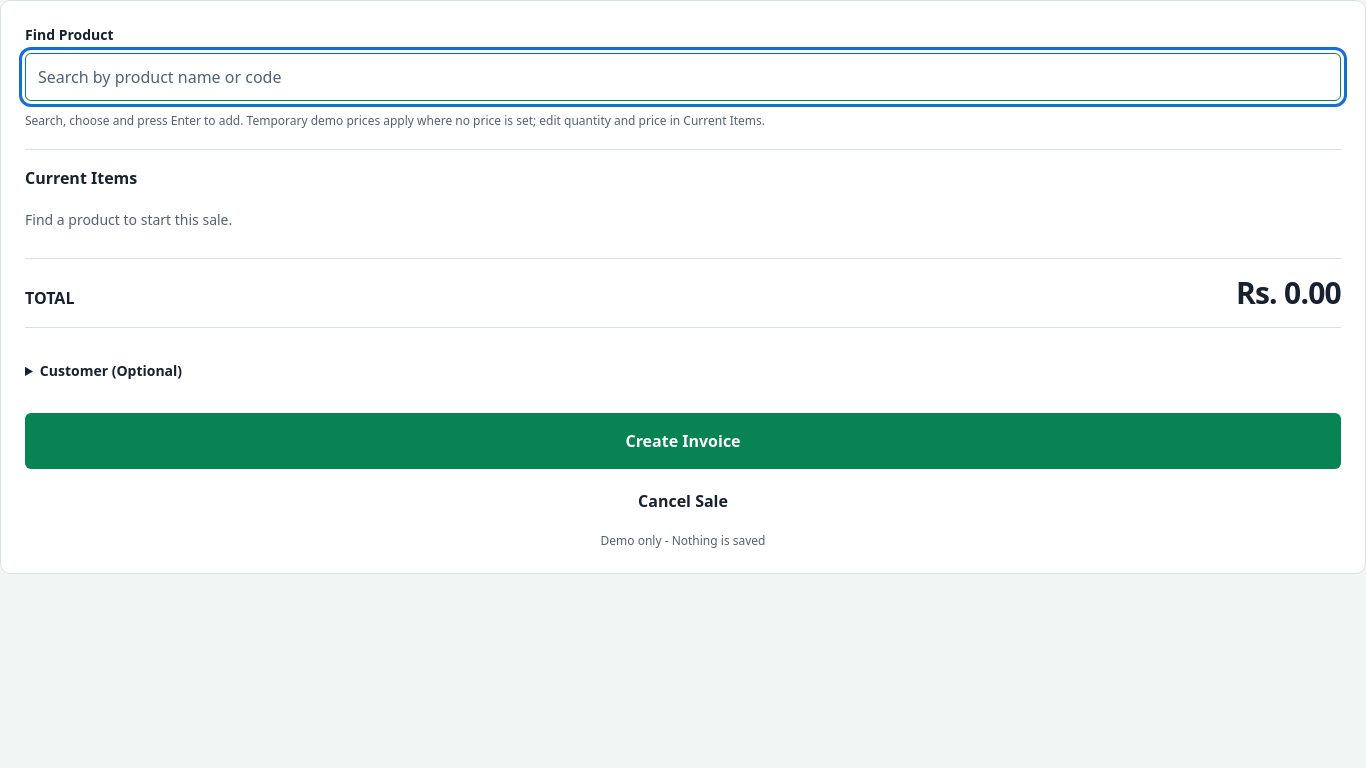
Test: keeps the optional percentage discount with one TOTAL and no invented payment or customer rows
Type "dia" into the dropdown.
click(683, 77); type("dia")  # box [25,53,1341,101]
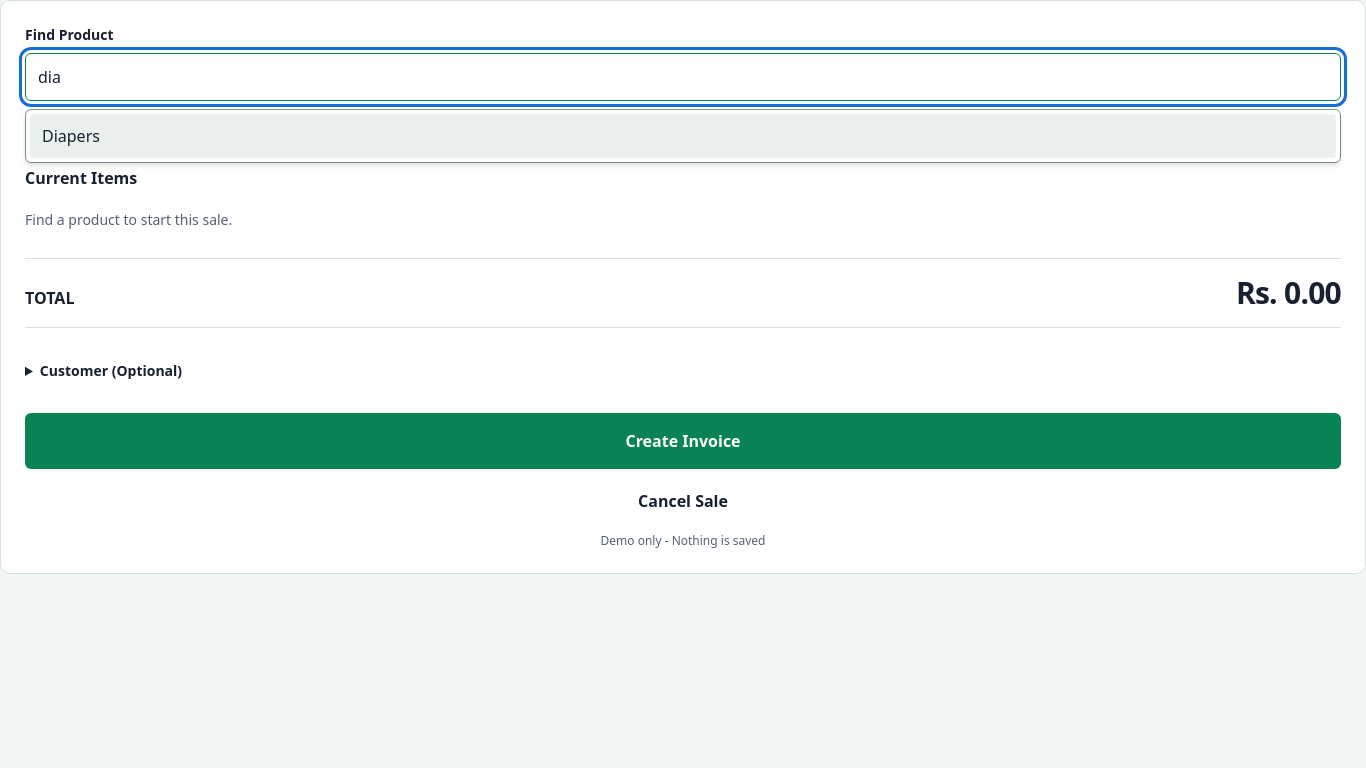
Press Enter in the dropdown, box [25,53,1341,101]
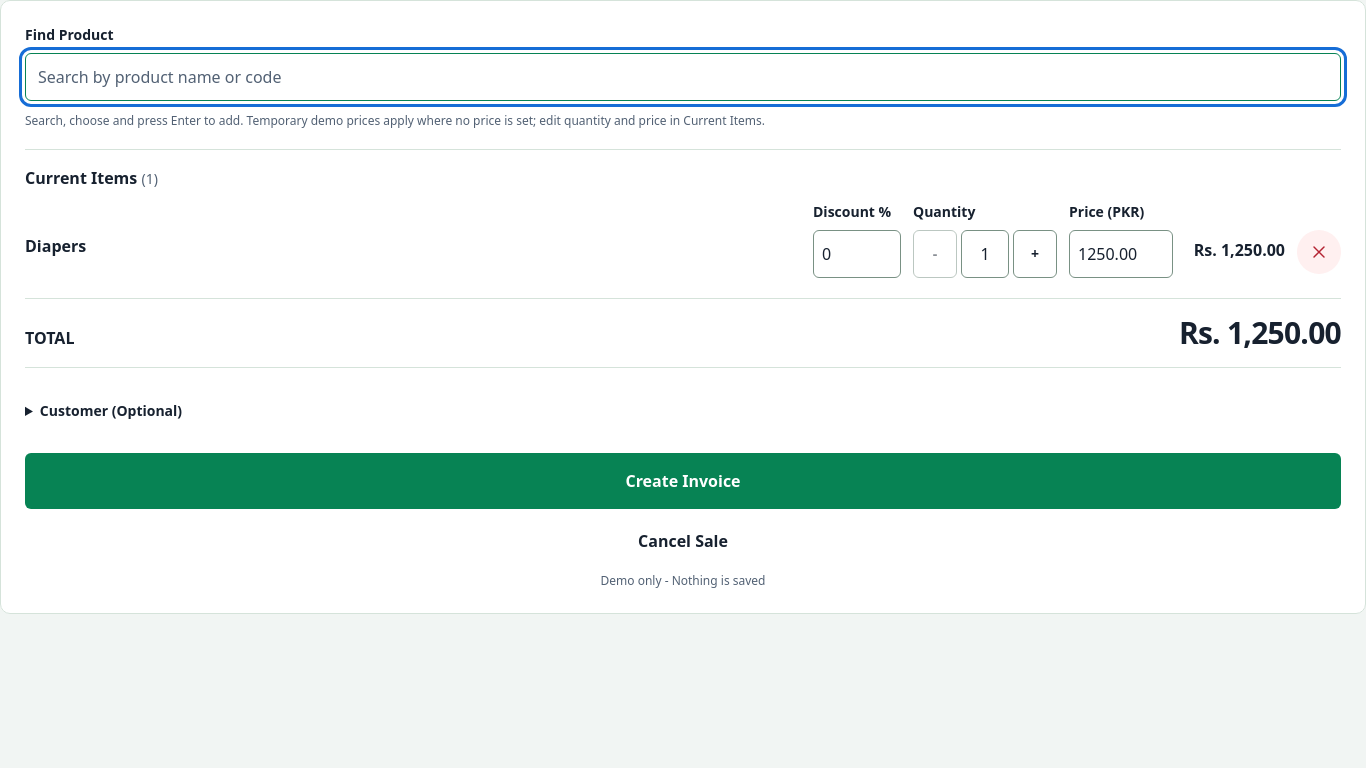
Replace the text in the field named "Diapers quantity, item 1" with "2" at coordinates (985, 254), box [961,230,1009,278]
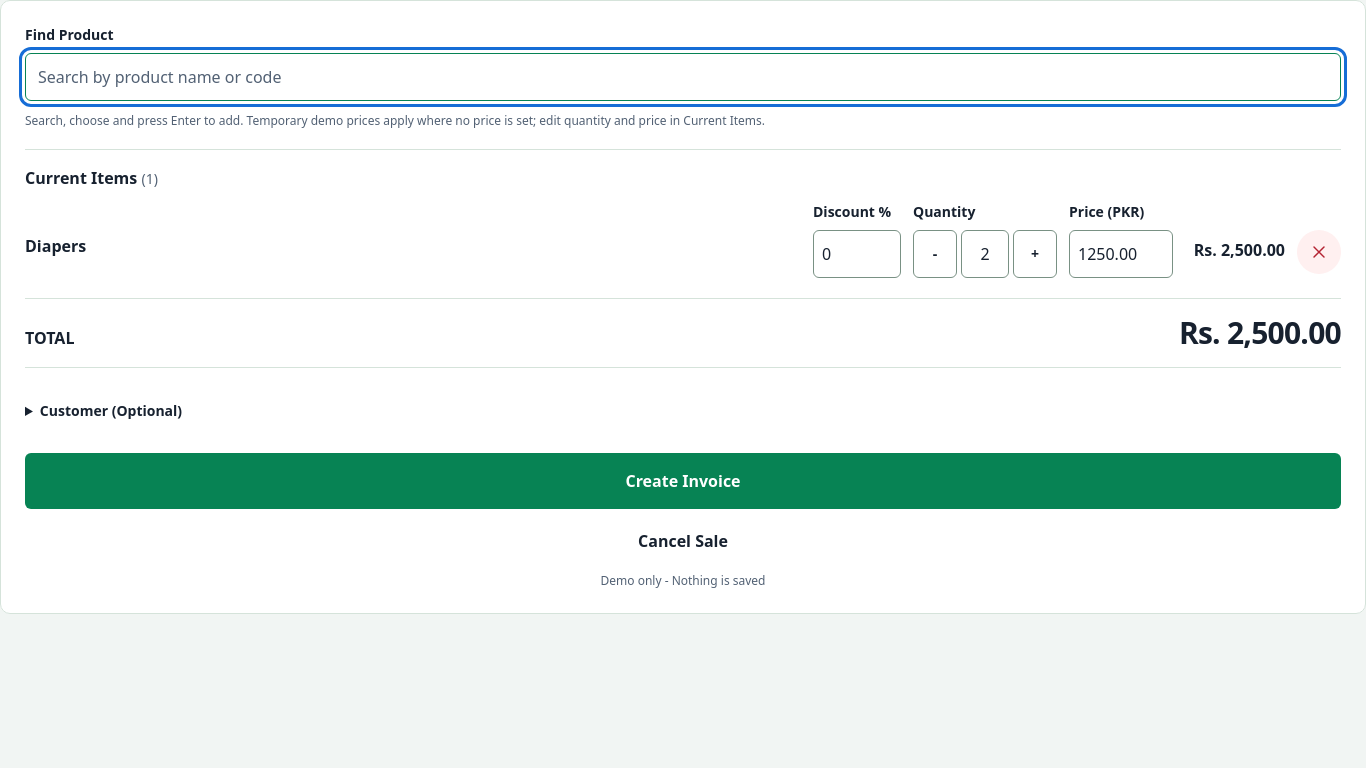
Replace the text in the field named "Diapers price (PKR), item 1" with "1200" at coordinates (1121, 254), box [1069,230,1173,278]
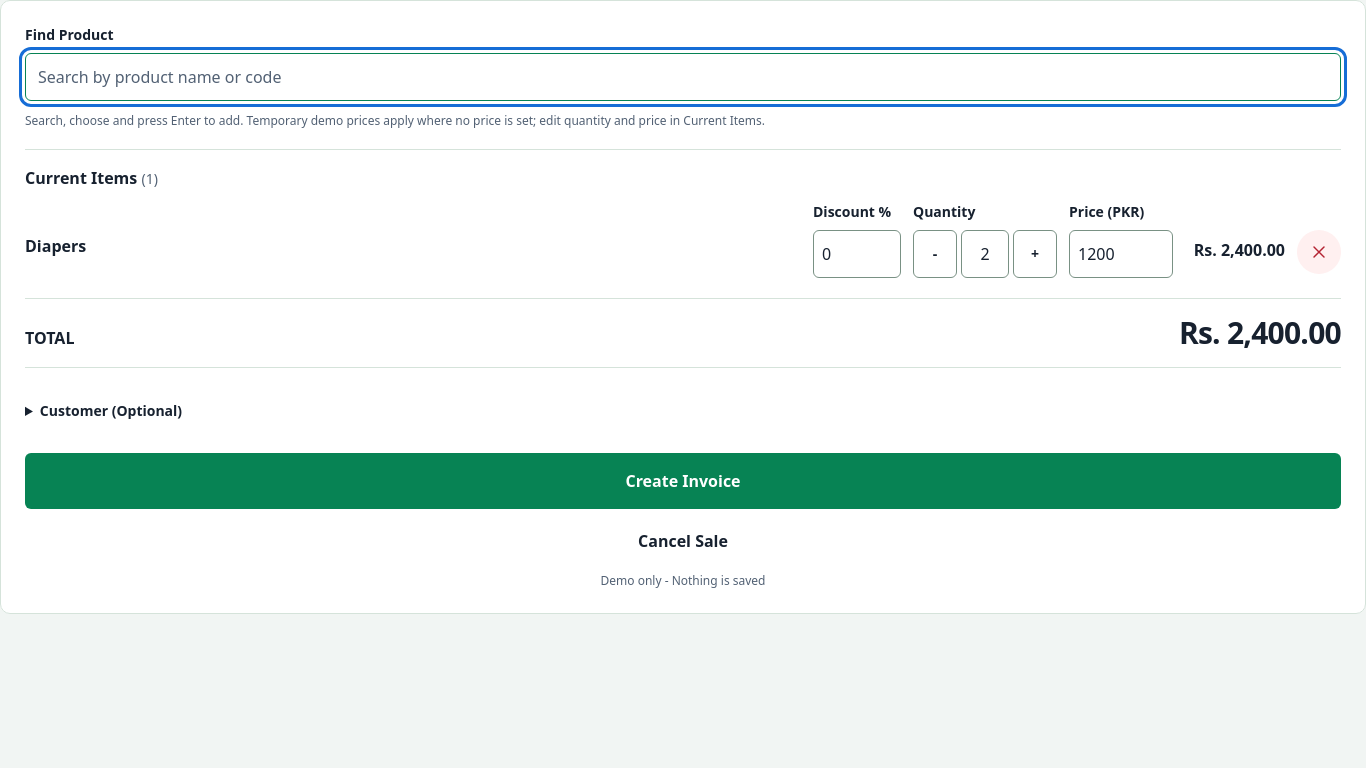
Check: the text with test id "sale-total" reads "Rs. 2,400.00", box [1179,312,1341,353]
Type "10" into the field named "Diapers discount (%), item 1".
click(857, 254); type("10")  # box [813,230,901,278]
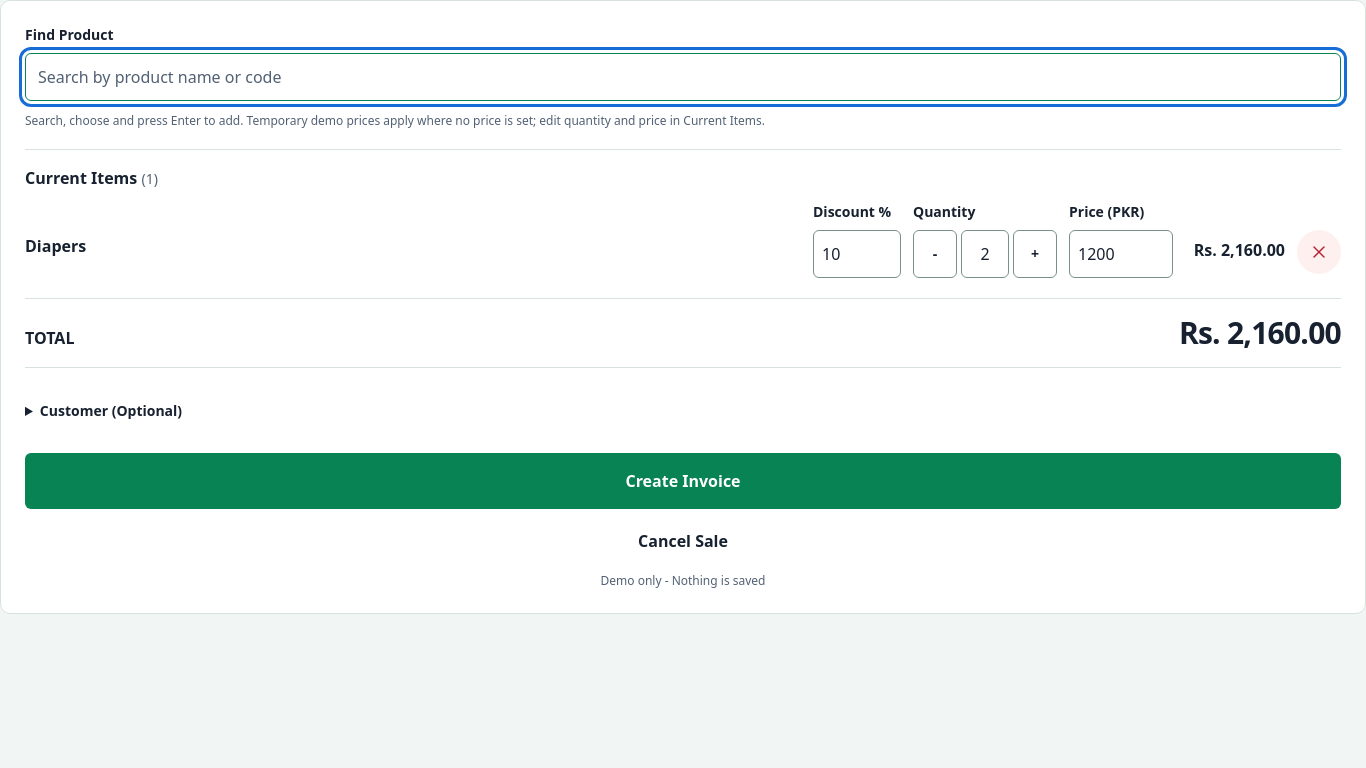
Check: the text with test id "sale-total" reads "Rs. 2,160.00", box [1179,312,1341,353]
Submit the form named "Make a sale preview"
(page scrolled)
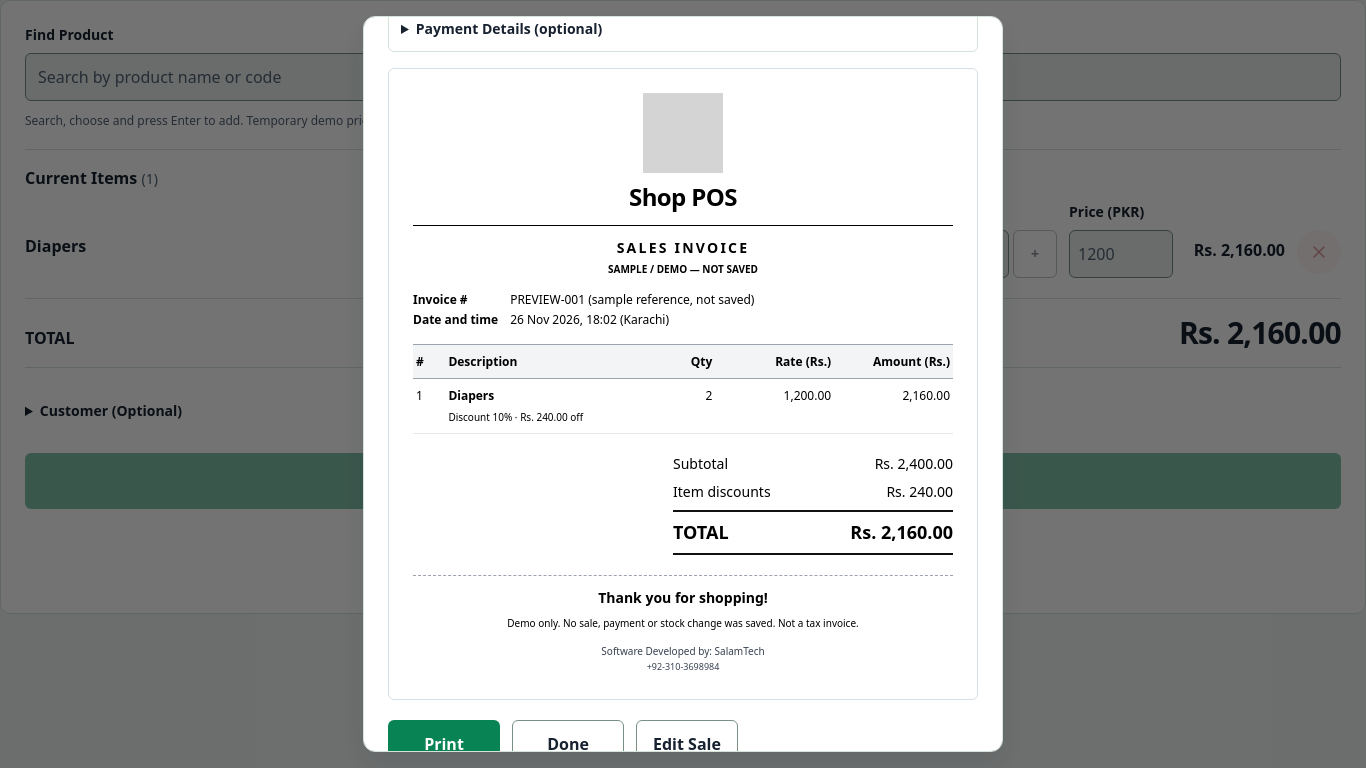
Check: the text "Item discounts" is shown, box [673,482,771,502]
Check: the text with test id "receipt-total" reads "Rs. 2,160.00", box [850,520,953,544]
